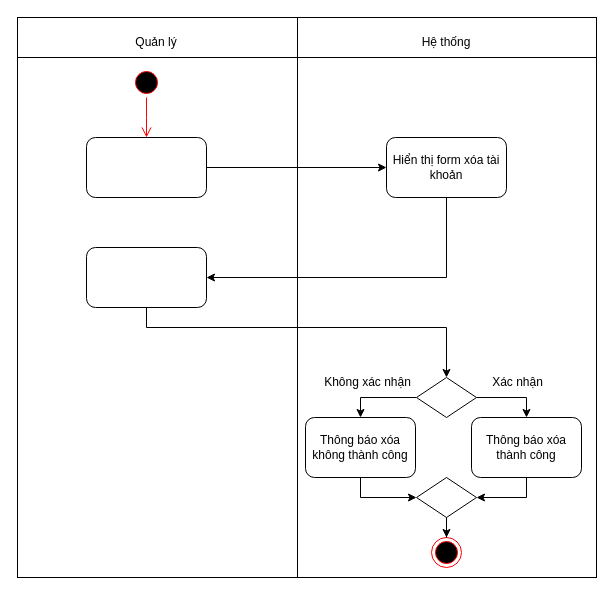
The diagram is 614 pixels wide and 595 high, and some of its shapes have lost their labels. The shapes that lost their labels are listed below. From the top down, each one's centre as x and y in pixels, then its label:
At (146,167): "Ấn chọn xóa tài khoản".
At (146,277): "Xác nhận xóa hóa đơn".
